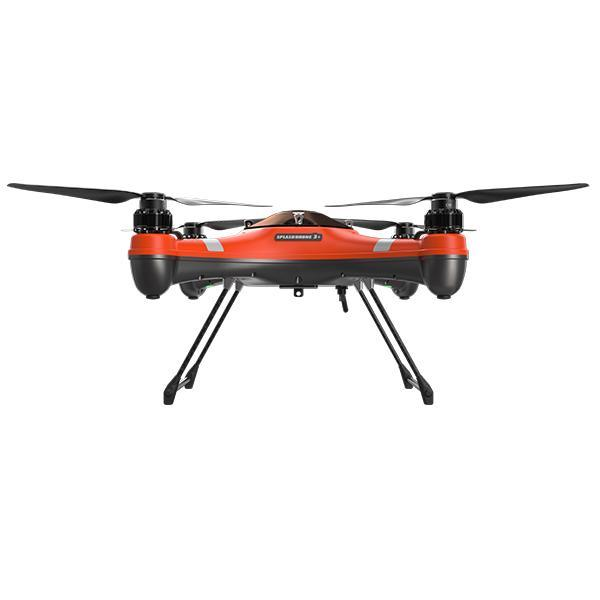drone: (5, 172, 593, 413)
